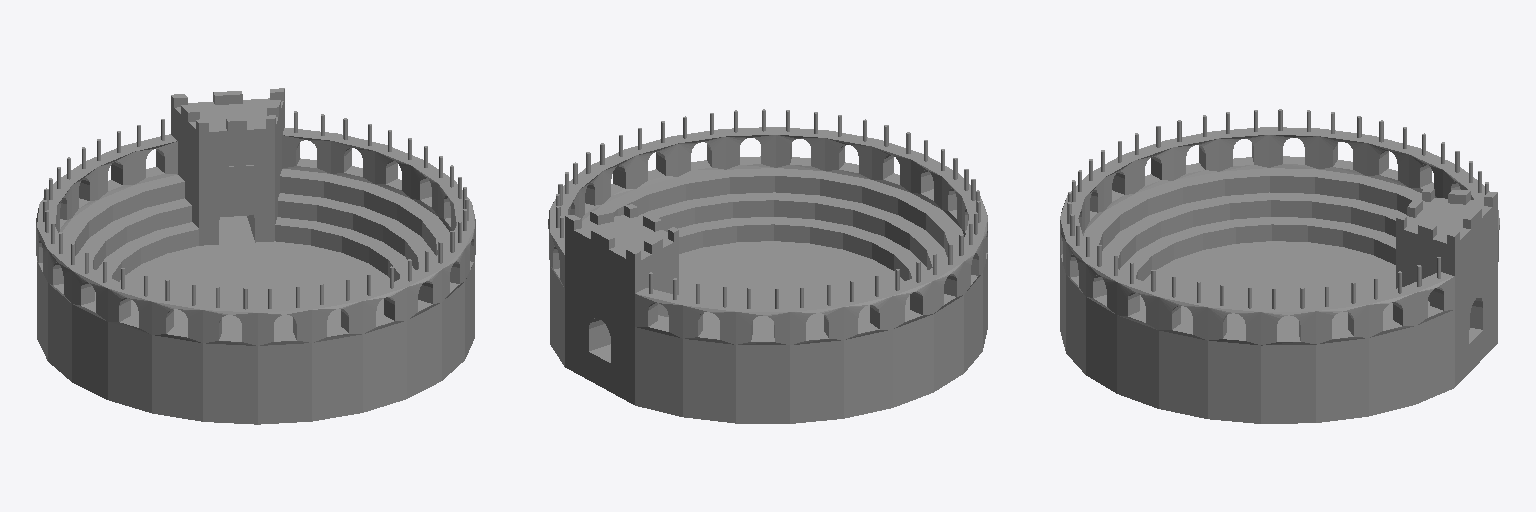
File: arena.obj
The picture shows the model from 3 angles: view 1: azimuth 30°, elevation 25°; view 2: azimuth 150°, elevation 25°; view 3: azimuth 270°, elevation 25°; orthographic projection.
Visible parts, largest first — view 1: NewArena_Cube.002, Flag_1.001_Cube.003; view 2: NewArena_Cube.002; view 3: NewArena_Cube.002.
Part boxes in pixels (x1,y1,x2,y2): NewArena_Cube.002: (36,88,475,424); Flag_1.001_Cube.003: (220,165,253,203); NewArena_Cube.002: (548,109,987,423); NewArena_Cube.002: (1060,109,1499,423).
Bounding box in the file's own units: 23.98 × 9.1 × 23.99.